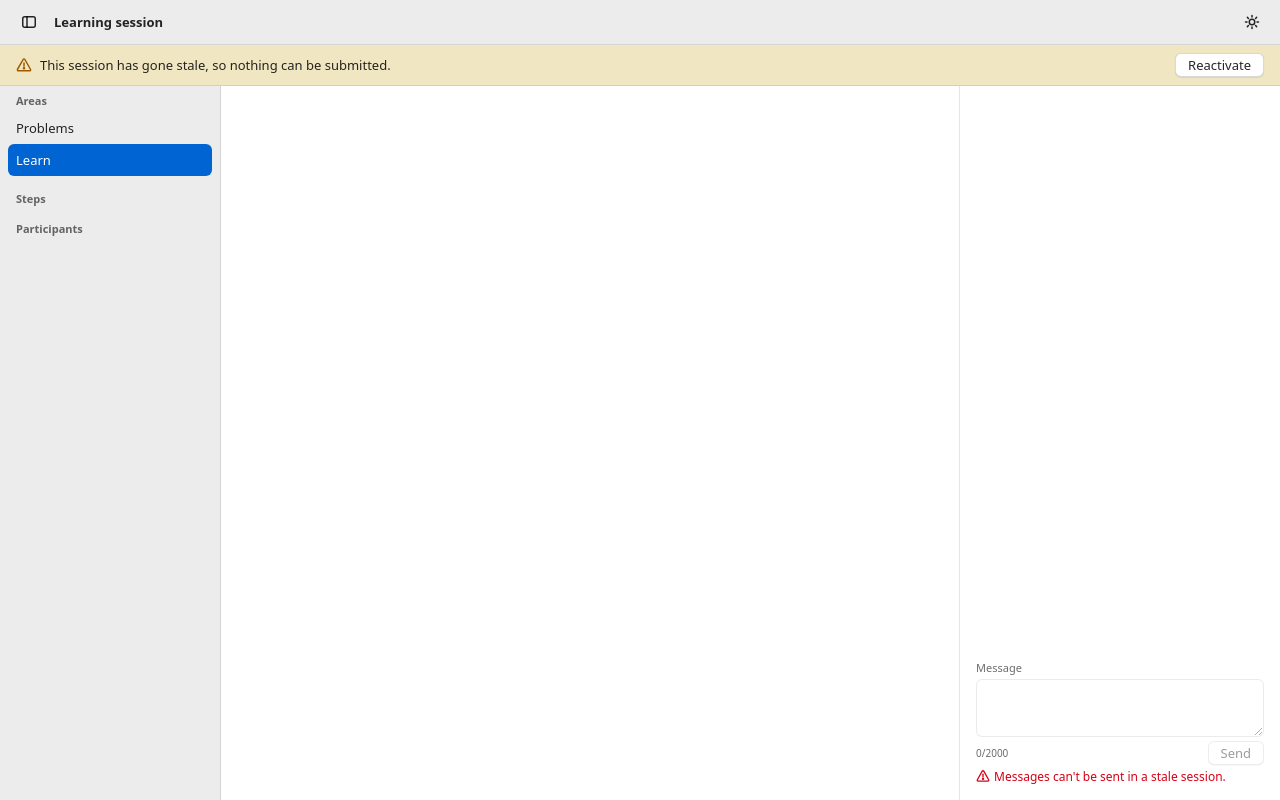
Test: LearningSessionWindow: completed and stale (FR-24, FR-26, FR-27) › AC-26: an admin sees Reactivate; reactivating offers the join prompt again
Click the button "Reactivate".
click(1220, 65)  # box left=1175, top=53, right=1264, bottom=77
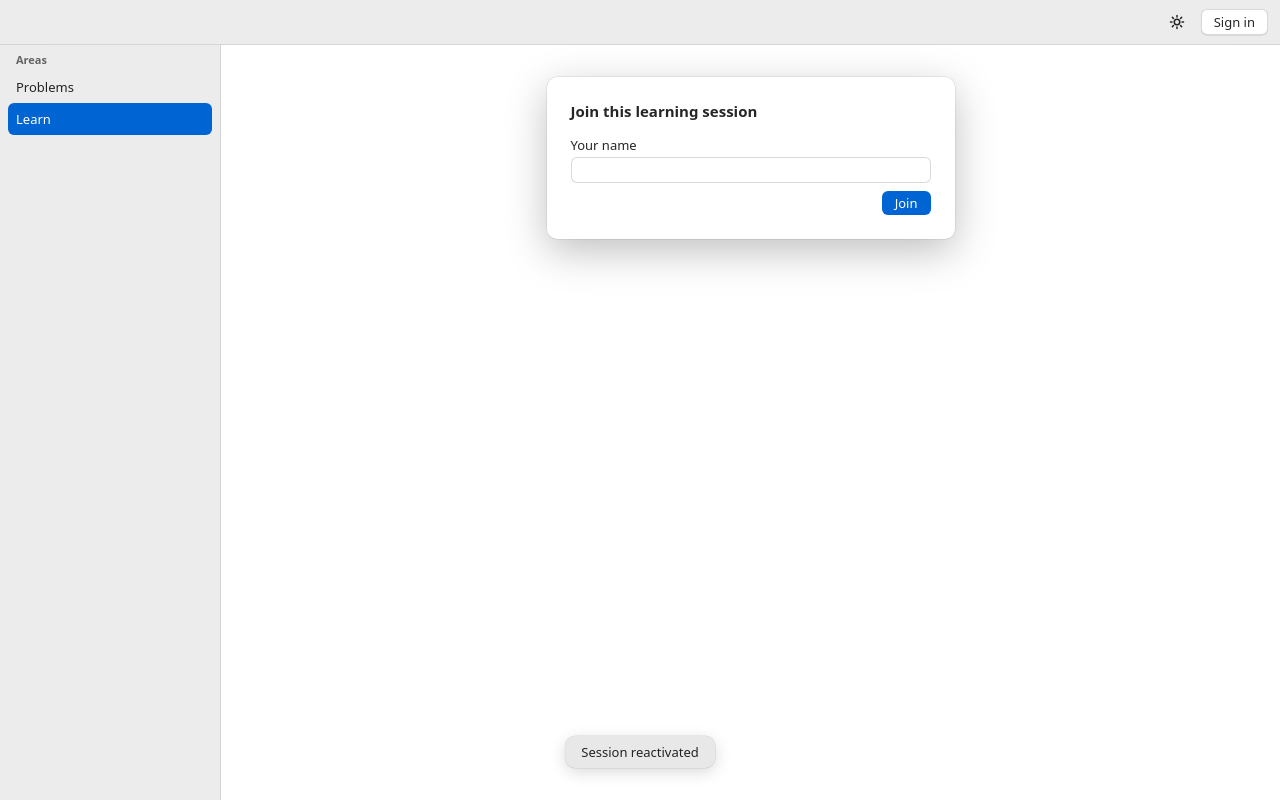
Check: the field labelled "Your name" is shown, box left=570, top=157, right=930, bottom=183
Check: the text "gone stale" is gone
